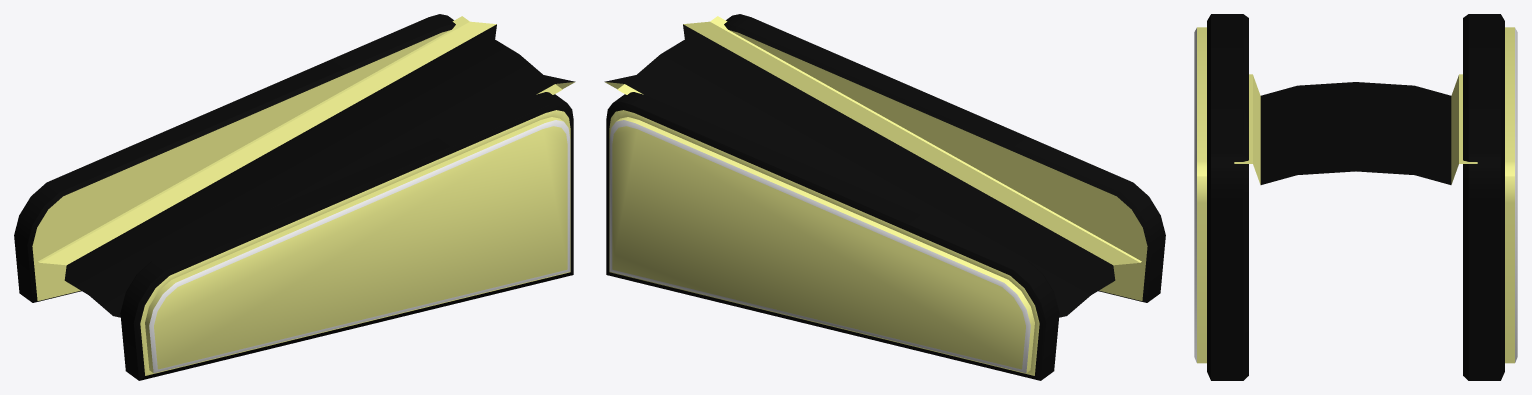
The model's file is rampa_01.FBX.
3 renders of one model, left to right at view 1: azimuth 30°, elevation 25°; view 2: azimuth 150°, elevation 25°; view 3: azimuth 270°, elevation 25°, orthographic. The views are drawn at different scales.
Parts seen in each view (by area): view 1: Box029; view 2: Box029; view 3: Box029.
Part boxes in pixels (left/top/right/bottom): Box029: left=14, top=14, right=575, bottom=380; Box029: left=604, top=14, right=1165, bottom=380; Box029: left=1194, top=14, right=1517, bottom=380.
Bounding box in the file's own units: 6.21 × 2.29 × 3.11.
